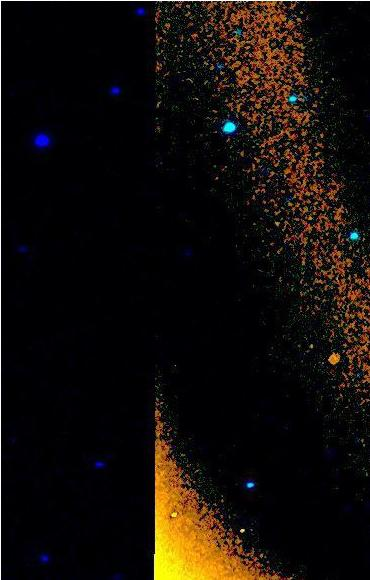star: (296, 330, 326, 360)
